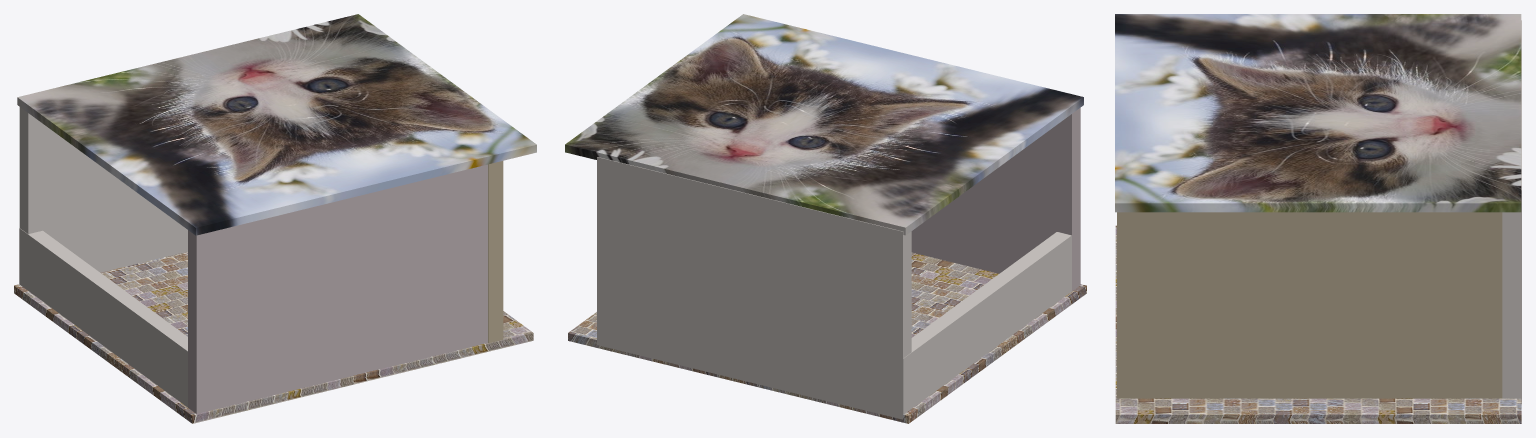
File: walls6.obj
The picture shows the model from 3 angles, left to right: view 1: azimuth 30°, elevation 25°; view 2: azimuth 150°, elevation 25°; view 3: azimuth 270°, elevation 25°; orthographic projection. The views are drawn at different scales.
Visible parts, largest first — view 1: Cube.005, Cube.002, Cube.003, Cube, Cube.004, Cube.001; view 2: Cube.005, Cube.003, Cube.002, Cube, Cube.004; view 3: Cube.005, Cube.001, Cube.004, Cube.003.
Part boxes in pixels (bbox=[...]): Cube.005: bbox=[17, 14, 536, 235]; Cube.002: bbox=[188, 164, 487, 413]; Cube.003: bbox=[19, 107, 187, 272]; Cube: bbox=[19, 228, 187, 407]; Cube.004: bbox=[14, 251, 533, 423]; Cube.001: bbox=[488, 161, 503, 343]; Cube.005: bbox=[565, 14, 1083, 235]; Cube.003: bbox=[597, 157, 911, 419]; Cube.002: bbox=[911, 108, 1080, 290]; Cube: bbox=[903, 232, 1071, 414]; Cube.004: bbox=[568, 252, 1086, 423]; Cube.005: bbox=[1115, 14, 1521, 212]; Cube.001: bbox=[1117, 212, 1502, 398]; Cube.004: bbox=[1115, 225, 1521, 423]; Cube.003: bbox=[1502, 20, 1521, 403].
Bounding box in the file's own units: 17.97 × 9.76 × 16.18.
Materials: 5 (5 with a texture image).
